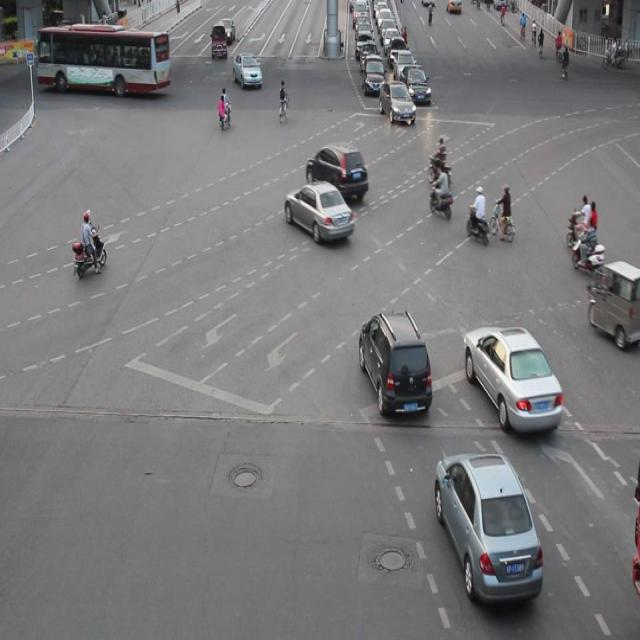car: (434, 448, 542, 602), (462, 323, 562, 432), (359, 307, 432, 416), (285, 178, 354, 244), (304, 141, 369, 202)
